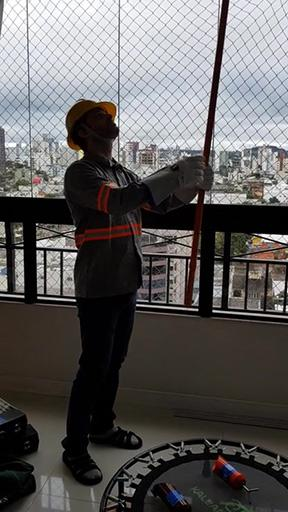Detector_Tensao_Contato: (212, 457, 258, 500)
Vara_Manobra: (184, 1, 229, 305)
